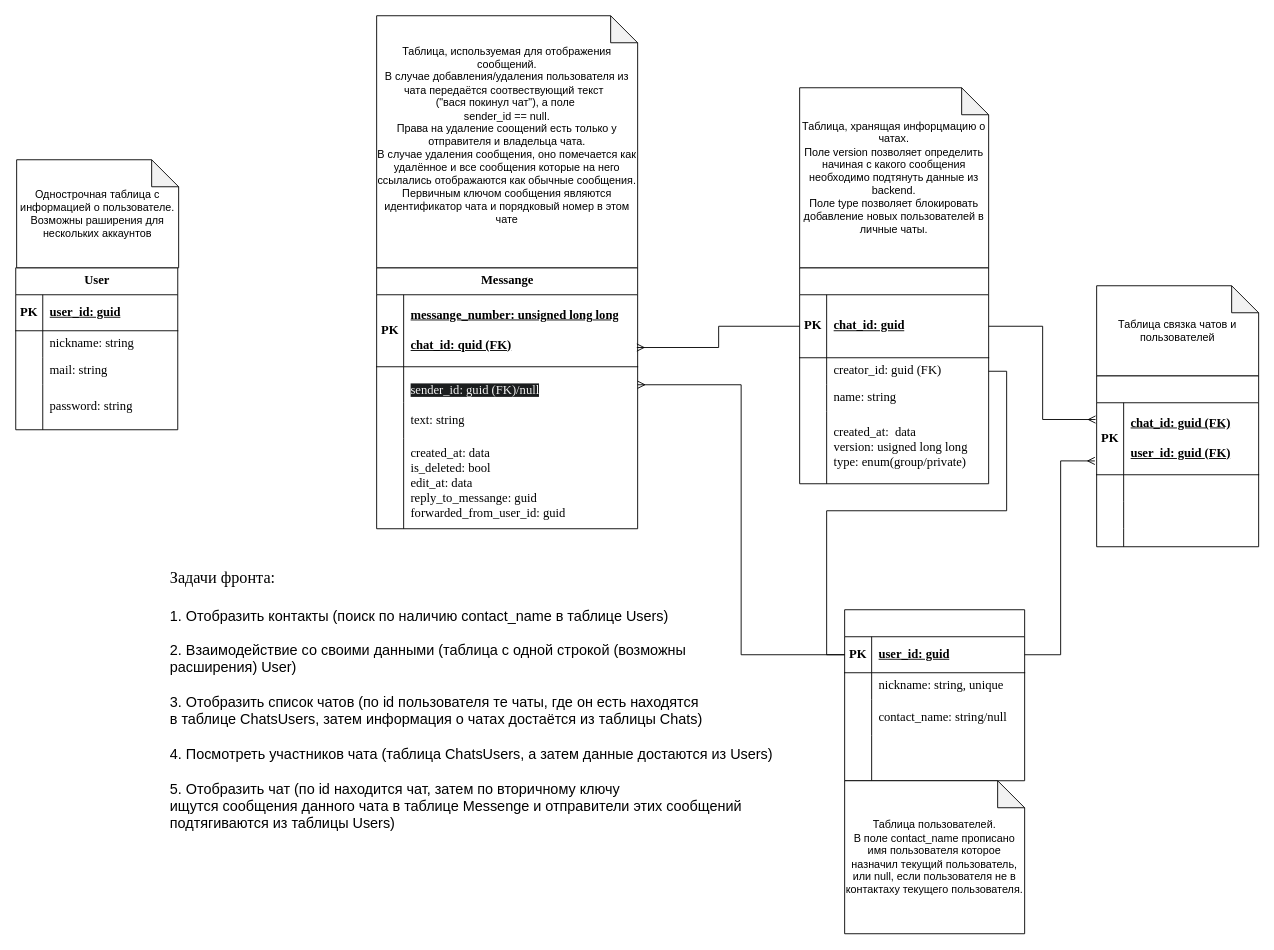
Some shapes in this 1274 by 950 pixel diagram are drawn without their labels. The box of each missing label's shape, as (x1, y1, x2, y2) in pixels:
Chats: (799, 267, 989, 484)
ChatsUsers: (1096, 375, 1259, 547)
Users: (844, 609, 1025, 781)
